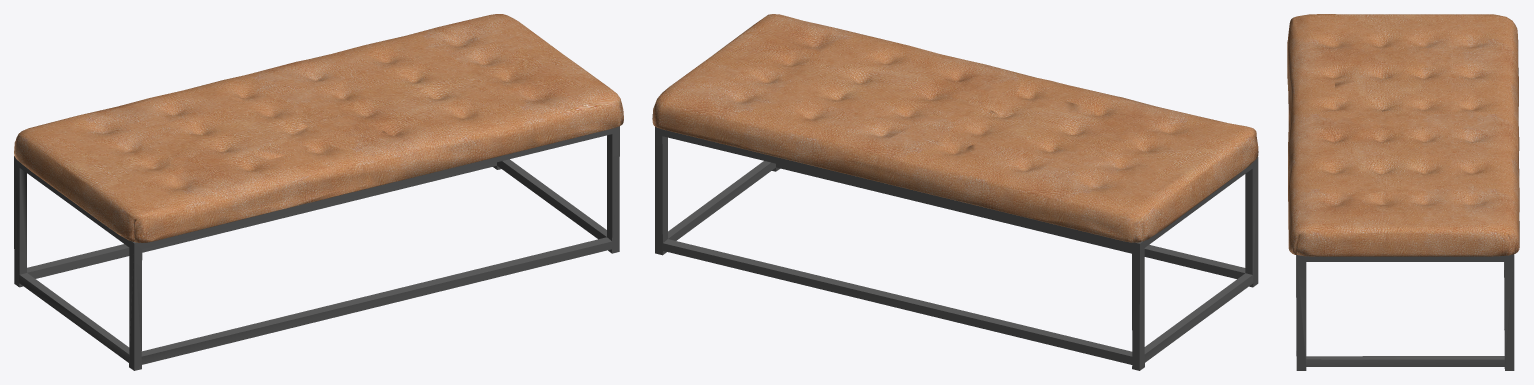
File: Bench.FBX
3 renders of one model, left to right at view 1: azimuth 30°, elevation 25°; view 2: azimuth 150°, elevation 25°; view 3: azimuth 270°, elevation 25°, orthographic. The views are drawn at different scales.
Parts seen in each view (by area): view 1: Bench; view 2: Bench; view 3: Bench.
Boxes of the visible parts, left/top/right/bottom form: Bench: left=14, top=14, right=623, bottom=370; Bench: left=652, top=14, right=1258, bottom=370; Bench: left=1287, top=14, right=1519, bottom=370.
Bounding box in the file's own units: 1179 × 523 × 357.
2 materials, 1 textured.
